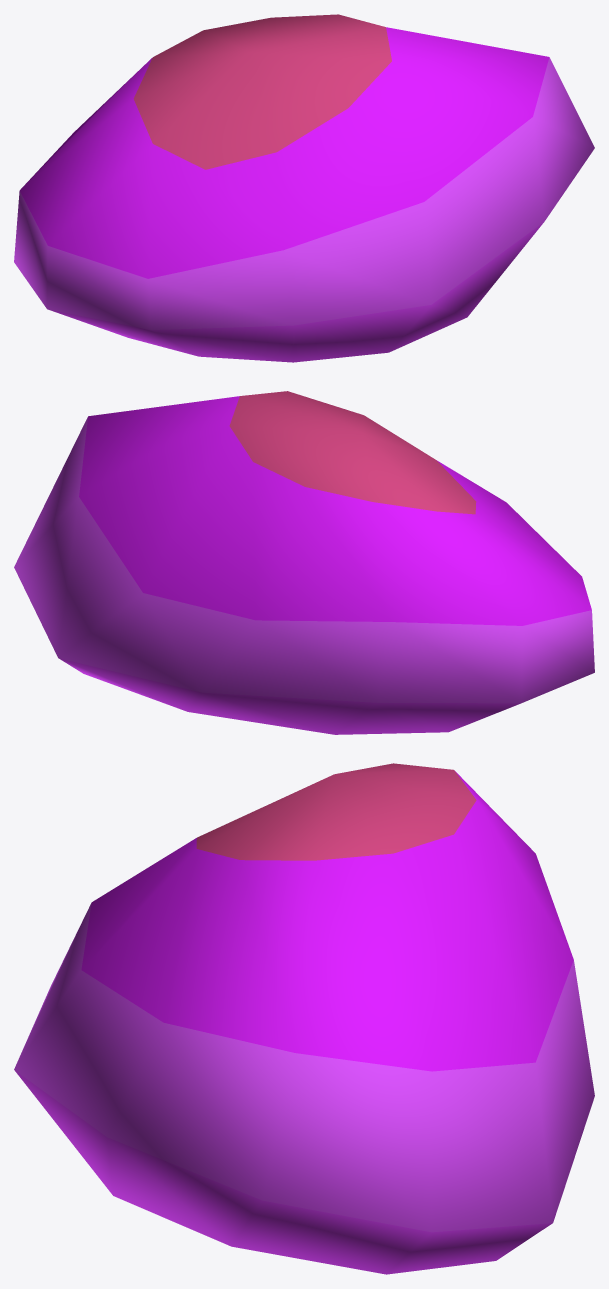
The model's file is rock.FBX.
The picture shows the model from 3 angles, top to bottom: view 1: azimuth 30°, elevation 25°; view 2: azimuth 150°, elevation 25°; view 3: azimuth 270°, elevation 25°; orthographic projection. The views are drawn at different scales.
Parts seen in each view (by area): view 1: Sphere001; view 2: Sphere001; view 3: Sphere001.
Part boxes in pixels (bbox=[...]): Sphere001: bbox=[14, 14, 594, 362]; Sphere001: bbox=[14, 391, 594, 734]; Sphere001: bbox=[14, 763, 594, 1274].
Size of the model in its own units: 16.37 by 8.62 by 11.17.
